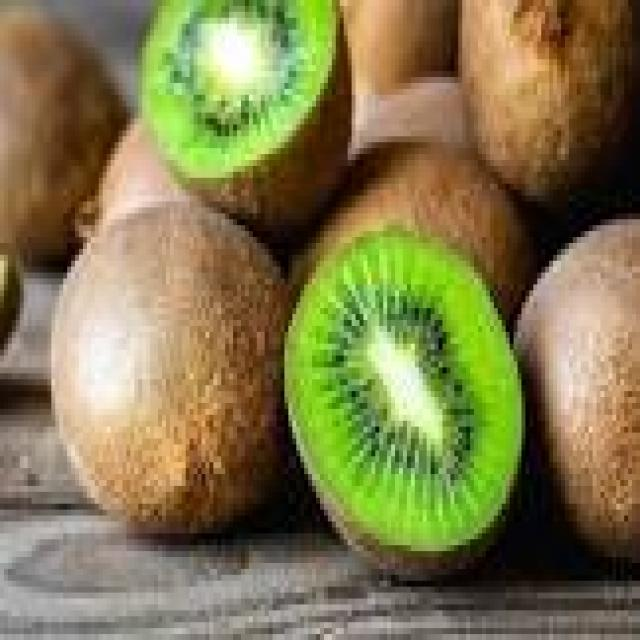kivi: (285, 227, 521, 576), (52, 193, 289, 529), (141, 2, 350, 244), (292, 144, 538, 321), (1, 13, 128, 349), (516, 220, 640, 561), (460, 0, 632, 197)
